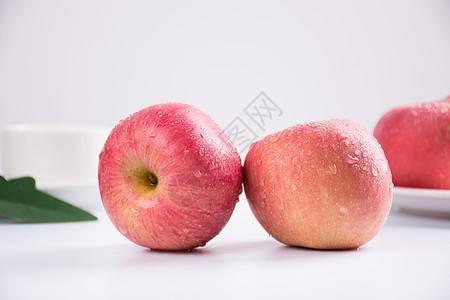apple: (96, 100, 244, 251), (240, 117, 393, 250)
